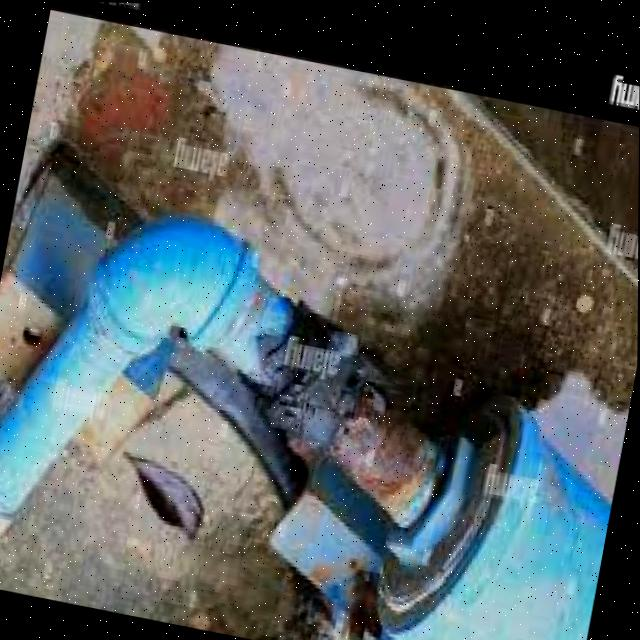corrosion: (193, 202, 445, 497)
